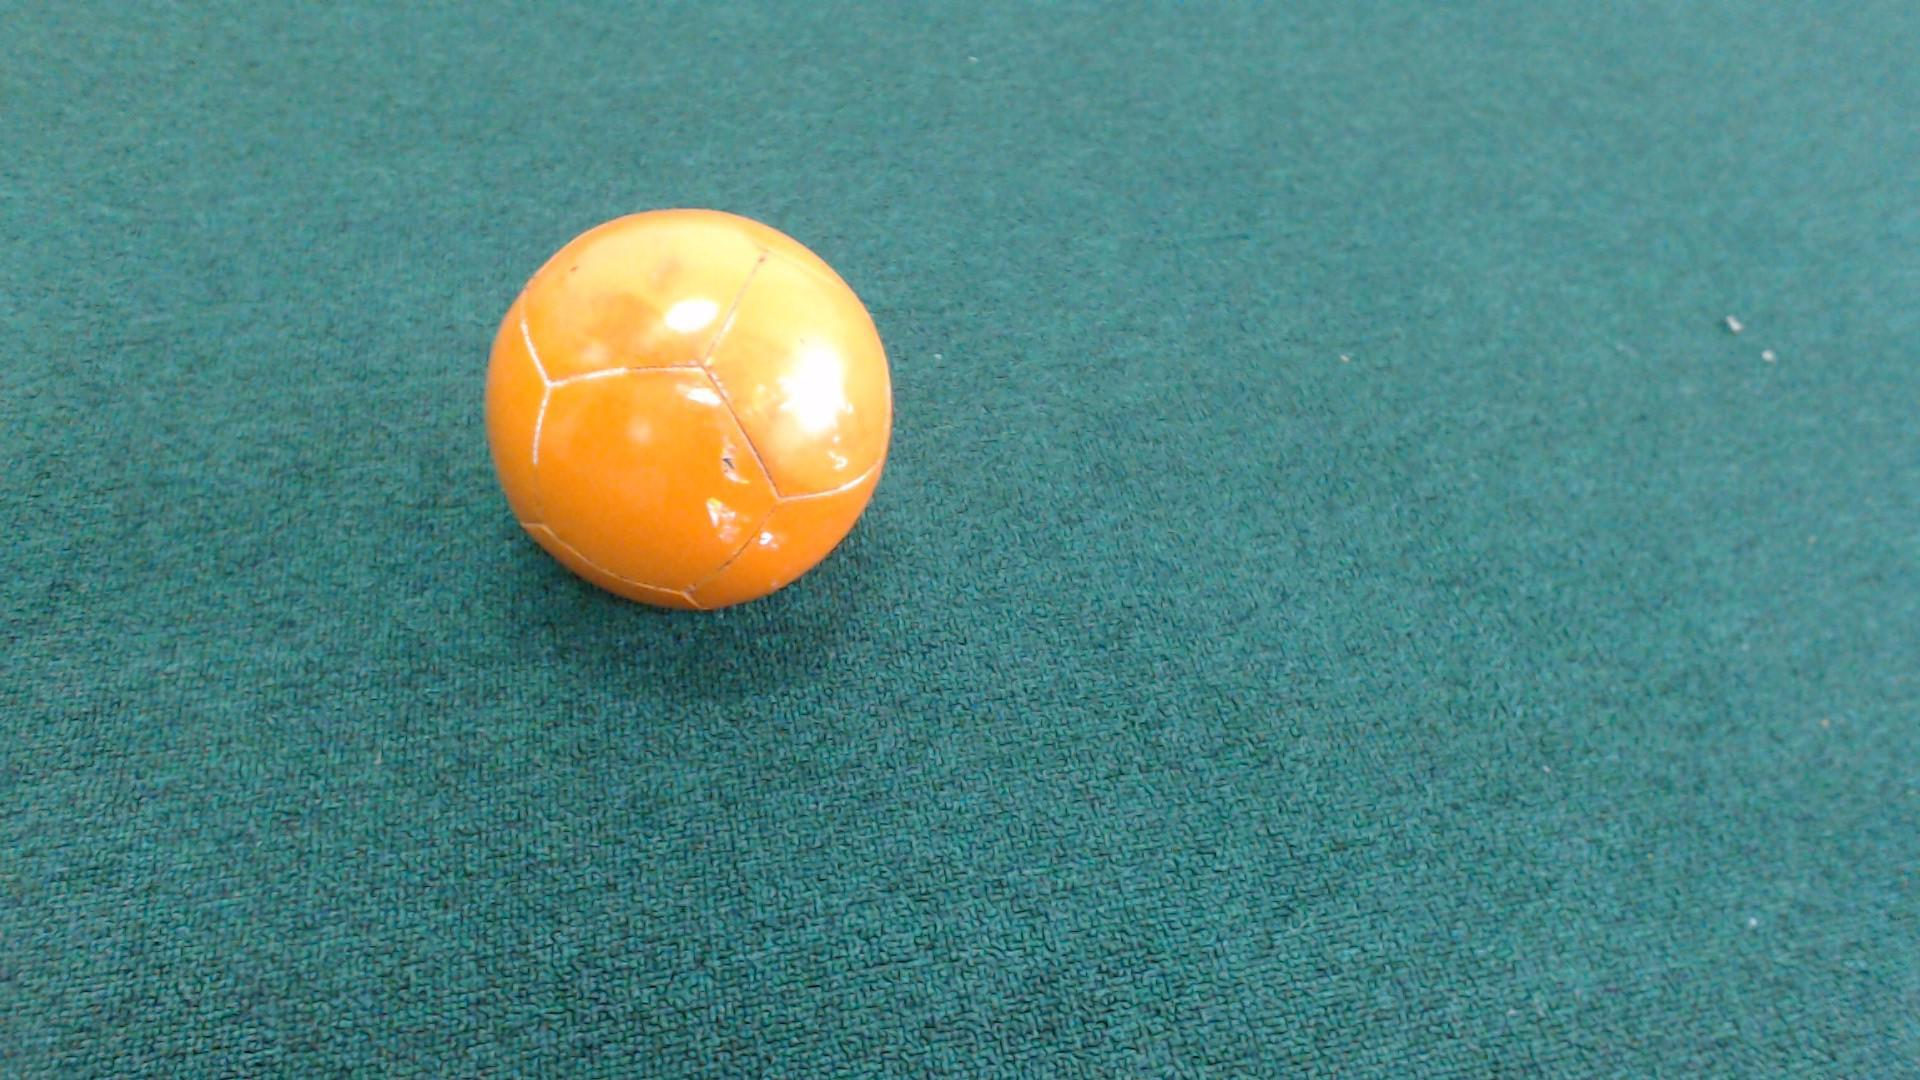bola: (442, 195, 919, 637)
